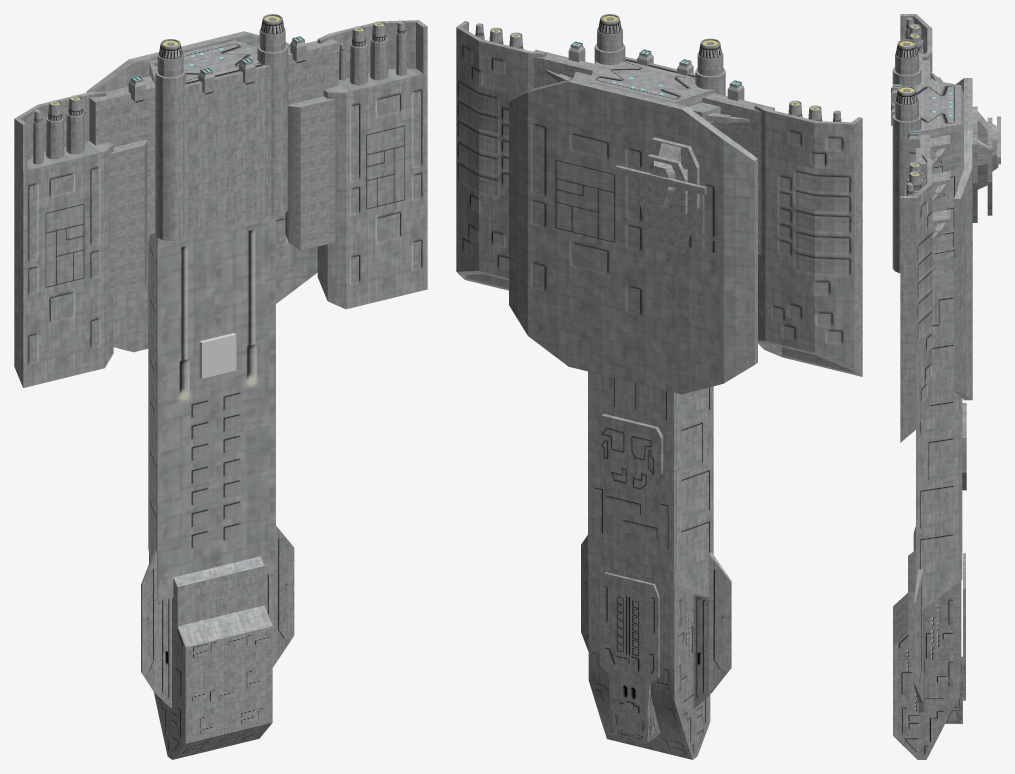
File: X304_ship.glb
3 renders of one model, left to right at view 1: azimuth 30°, elevation 25°; view 2: azimuth 150°, elevation 25°; view 3: azimuth 270°, elevation 25°, orthographic. The views are drawn at different scales.
Visible parts, largest first — view 1: bc304g, bc304c, bc304e, bc304a, bc304d, bc304b, Cube; view 2: bc304g, bc304e, bc304c, bc304b, bc304a, bc304d, bc304f; view 3: bc304g, bc304c, bc304e, bc304a, bc304d, bc304b, glowy.
Boxes of the visible parts, bbox=[...] form: bc304g: bbox=[23, 14, 427, 387]; bc304c: bbox=[148, 216, 275, 601]; bc304e: bbox=[14, 20, 426, 387]; bc304a: bbox=[149, 553, 272, 759]; bc304d: bbox=[142, 62, 271, 242]; bc304b: bbox=[141, 526, 294, 708]; Cube: bbox=[199, 333, 236, 378]; bc304g: bbox=[475, 14, 841, 394]; bc304e: bbox=[456, 21, 862, 376]; bc304c: bbox=[588, 371, 713, 597]; bc304b: bbox=[581, 535, 731, 742]; bc304a: bbox=[588, 562, 710, 759]; bc304d: bbox=[545, 69, 750, 123]; bc304f: bbox=[463, 274, 855, 373]; bc304g: bbox=[891, 17, 1000, 400]; bc304c: bbox=[916, 278, 966, 609]; bc304e: bbox=[895, 14, 961, 442]; bc304a: bbox=[893, 550, 961, 759]; bc304d: bbox=[918, 71, 963, 288]; bc304b: bbox=[913, 526, 965, 723]; glowy: bbox=[899, 18, 923, 185].
Bounding box in the file's own units: 23.55 × 40.24 × 5.94.
10 materials, 9 textured.
